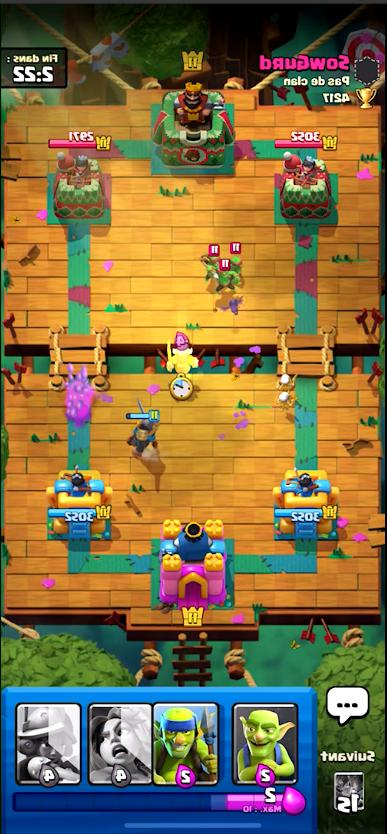chevalier: (128, 402, 157, 454)
gobelin_lances: (214, 258, 233, 294), (202, 246, 221, 277), (229, 243, 245, 276)
